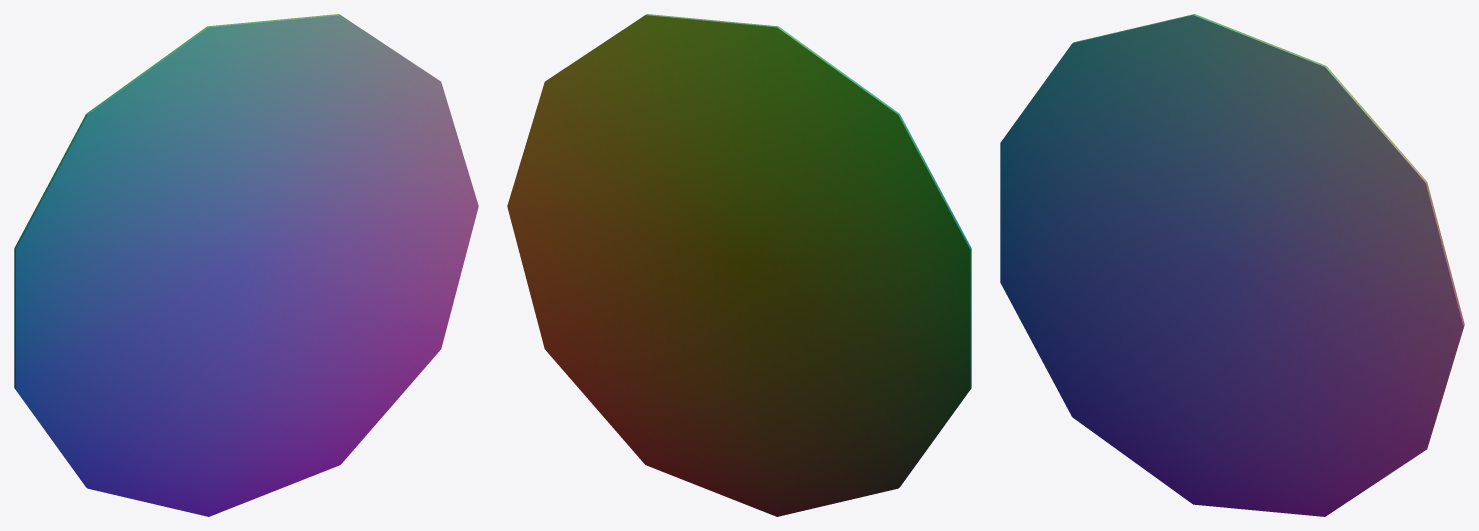
File: zeometry-flat-shapes-flat-oval_v5.glb
3 renders of one model, left to right at view 1: azimuth 30°, elevation 25°; view 2: azimuth 150°, elevation 25°; view 3: azimuth 330°, elevation 25°, orthographic.
Parts seen in each view (by area): view 1: Flat Oval_v5; view 2: Flat Oval_v5; view 3: Flat Oval_v5.
Boxes of the visible parts, left/top/right/bottom form: Flat Oval_v5: left=14, top=14, right=478, bottom=516; Flat Oval_v5: left=507, top=14, right=971, bottom=516; Flat Oval_v5: left=1000, top=14, right=1464, bottom=516.
Size of the model in its own units: 0.4949 by 0.5 by 0.00283.
